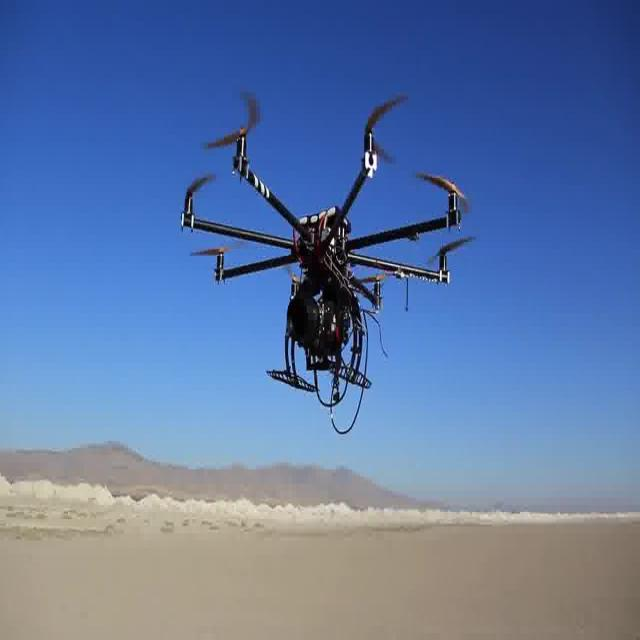drone: (168, 53, 483, 444)
